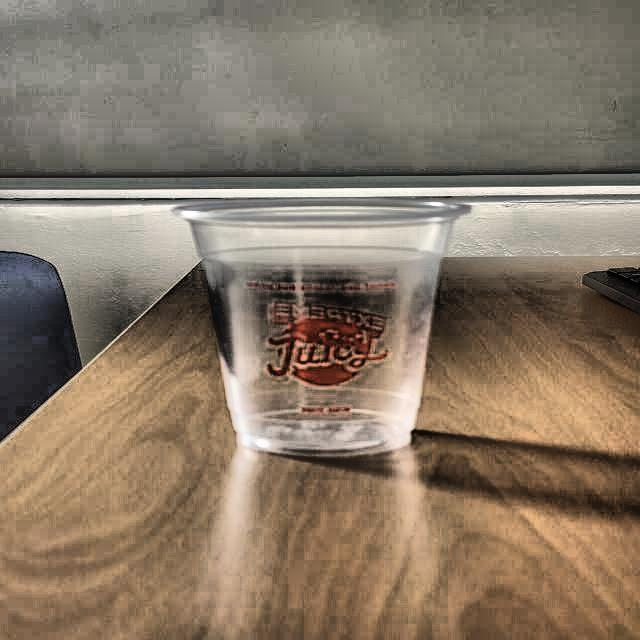plastic cup: (168, 194, 472, 457)
